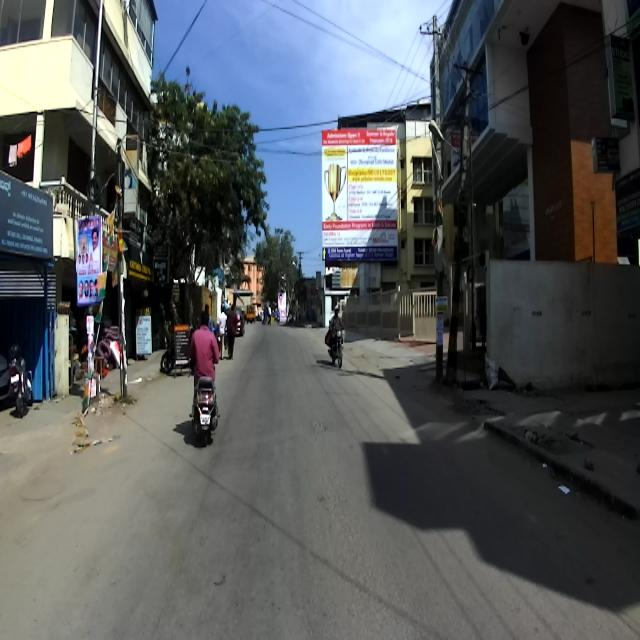motorcycle ahead at: (184, 372, 224, 443)
